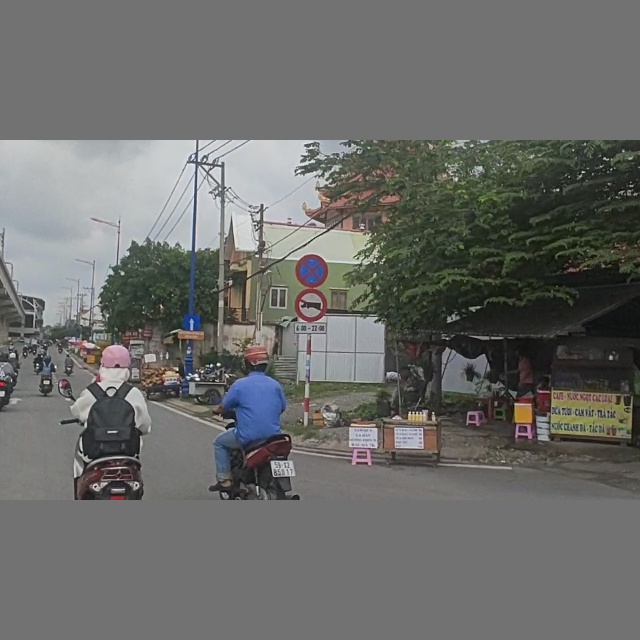B.8a: (295, 289, 328, 321)
I.407a: (184, 314, 202, 331)
P.130: (296, 255, 329, 287)
